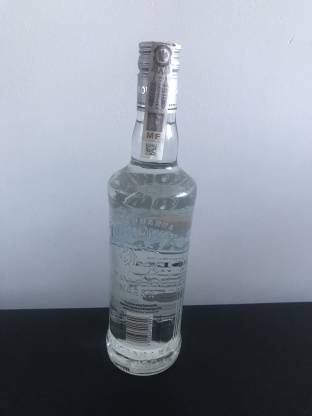nakretka: (134, 36, 182, 116)
